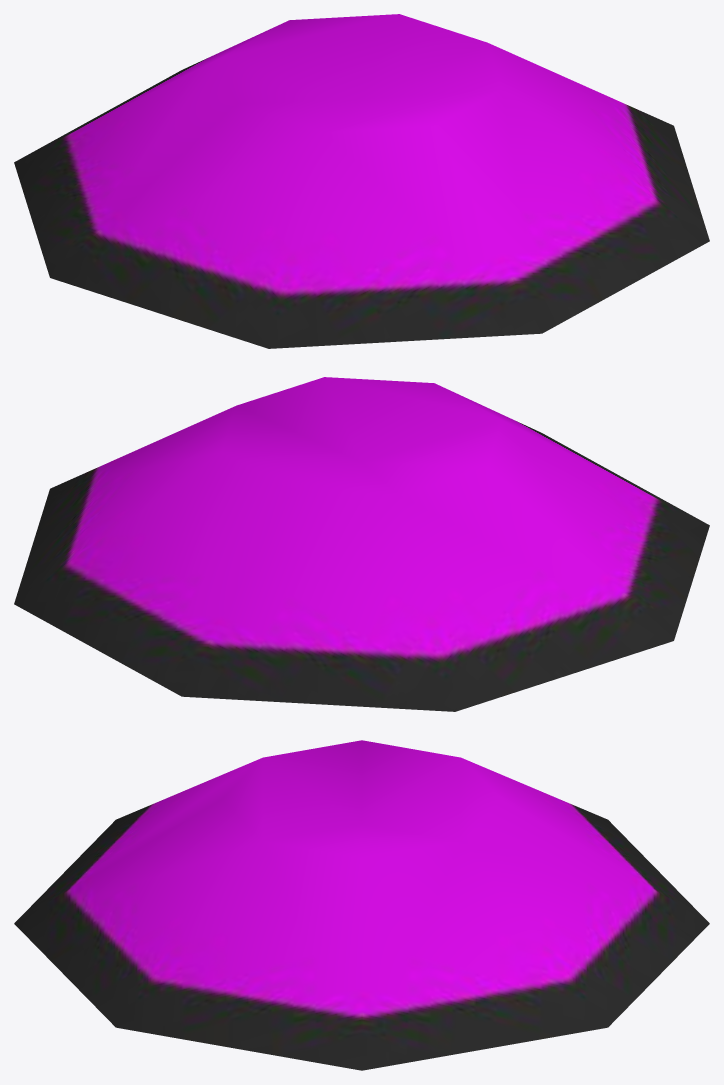
The model's file is defaultconepurple.glb.
3 views of the same model, one above another, from view 1: azimuth 30°, elevation 25°; view 2: azimuth 150°, elevation 25°; view 3: azimuth 270°, elevation 25° (orthographic). The views are drawn at different scales.
Visible parts, largest first — view 1: DefaultConePurple; view 2: DefaultConePurple; view 3: DefaultConePurple.
Part boxes in pixels (x1,y1,x2,y2): DefaultConePurple: (14,14,709,348); DefaultConePurple: (14,377,709,711); DefaultConePurple: (14,740,709,1070).
Bounding box in the file's own units: 0.312 × 0.0614 × 0.312.
Materials: 1 (1 with a texture image).
